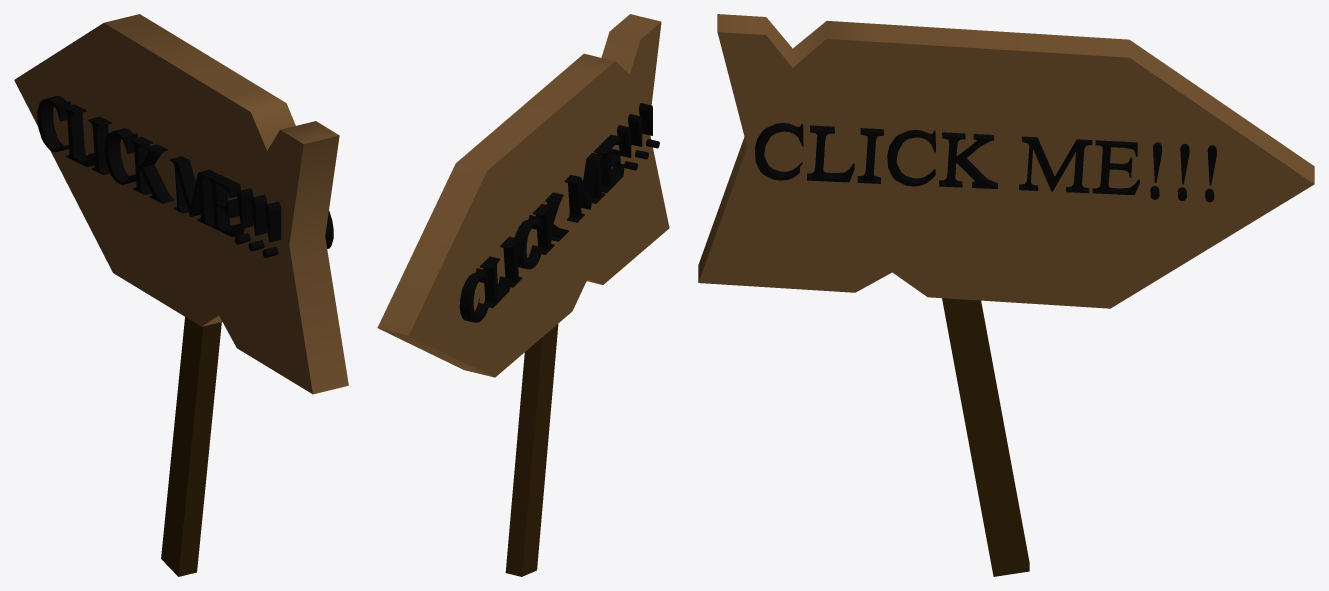
Rendered from Click_Me_Sign.fbx.
3 renders of one model, left to right at view 1: azimuth 30°, elevation 25°; view 2: azimuth 150°, elevation 25°; view 3: azimuth 270°, elevation 25°, orthographic. The views are drawn at different scales.
Visible parts, largest first — view 1: pCube3; view 2: pCube3; view 3: pCube3.
Boxes of the visible parts, bbox=[...] form: pCube3: bbox=[14, 14, 348, 576]; pCube3: bbox=[377, 14, 669, 576]; pCube3: bbox=[698, 14, 1314, 576].
Size of the model in its own units: 2 by 14.17 by 14.41.
